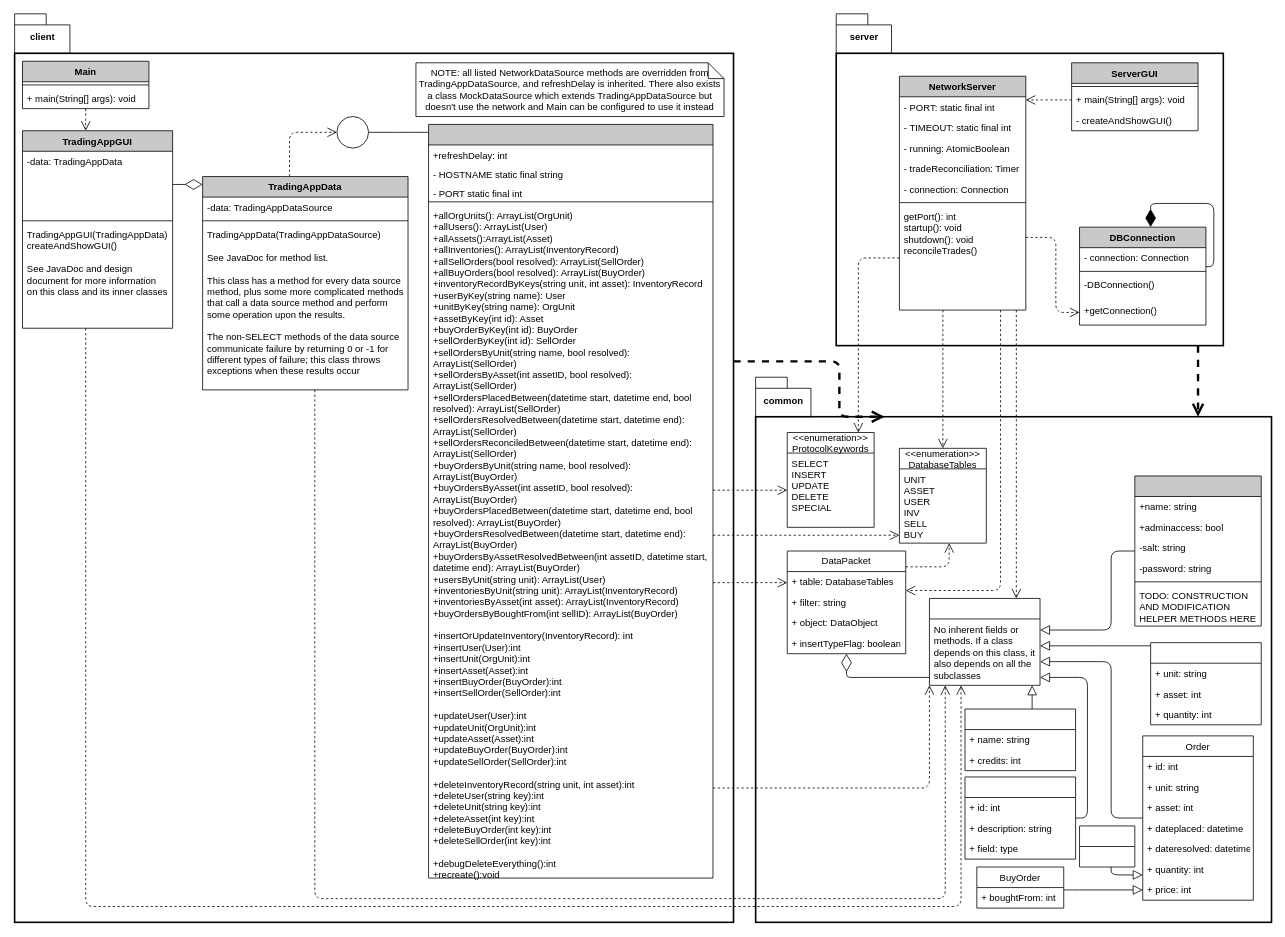
The diagram is 1285 pixels wide and 937 high, and some of its shapes have lost their labels. The shapes that lost their labels are listed below. From the top down, each one's box as (x1, y1, x2, y2) in pixels, then its label:
(336, 116, 369, 148): TradingAppDataSource (abstract class)
(428, 124, 713, 878): NetworkDataSource
(1134, 475, 1261, 626): User
(929, 598, 1040, 685): DataObject
(1150, 642, 1261, 725): InventoryRecord
(964, 708, 1076, 771): OrgUnit
(964, 776, 1076, 859): Asset
(1079, 825, 1135, 867): SellOrder
